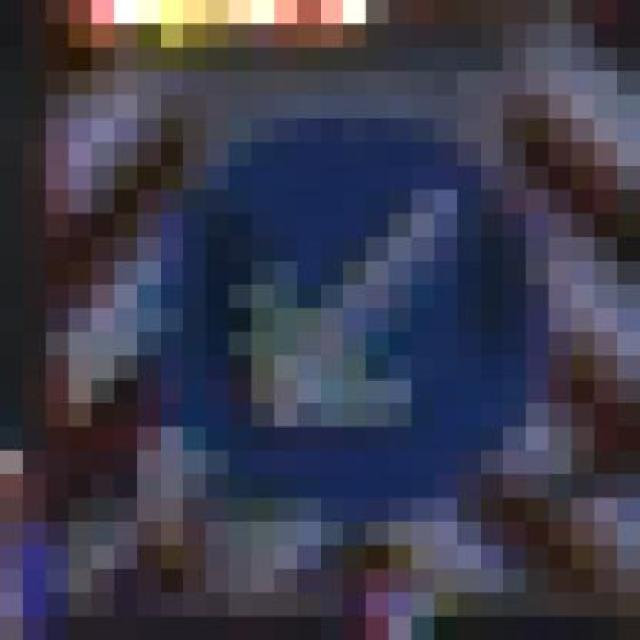Keep-Left: (114, 94, 572, 546)
